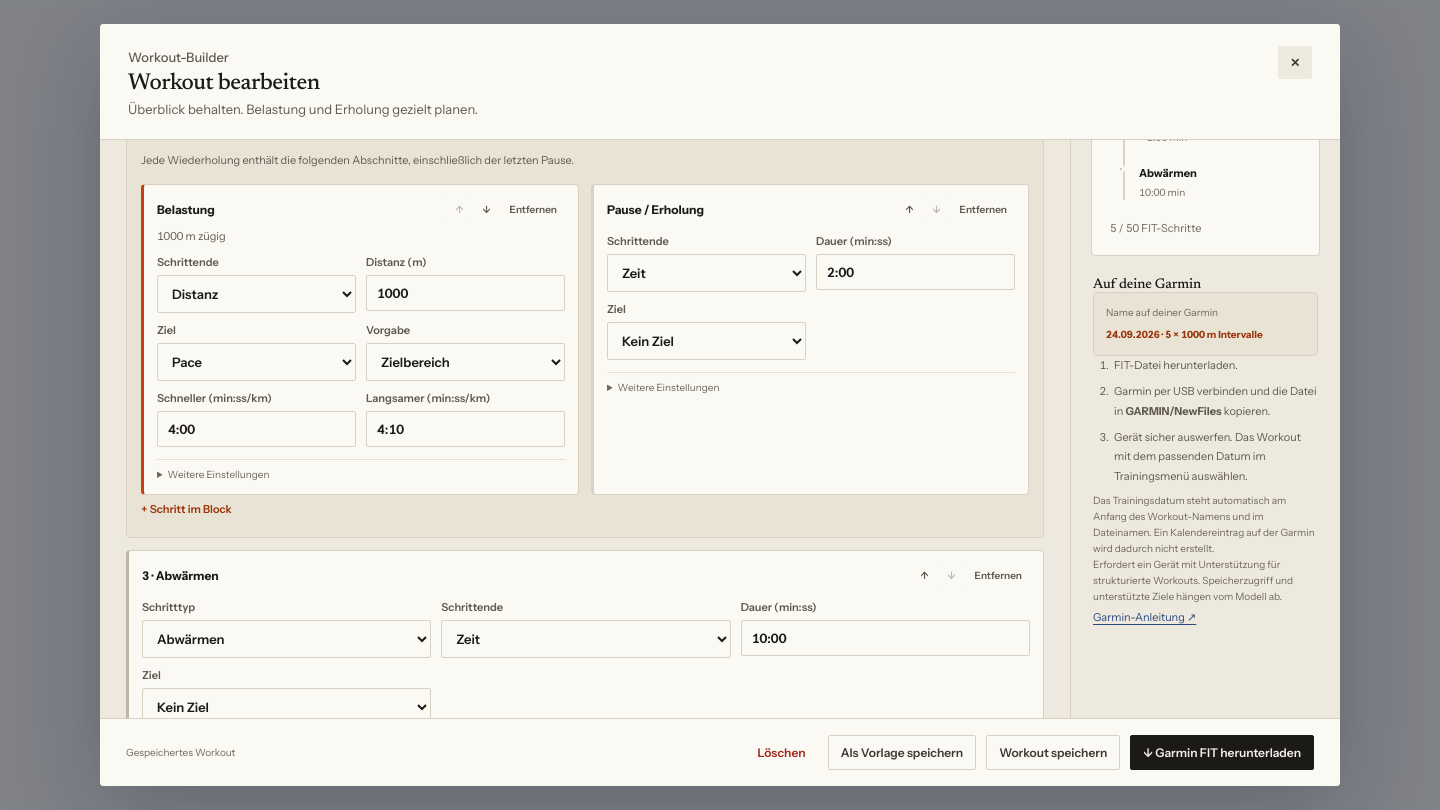
invalid time stays in the editor and an API error does not claim success
(page scrolled)
Replace the text in the field named "Schritt 2.1: Ziel von" with "4:99" at x=256, y=429, box [157,411,356,447]
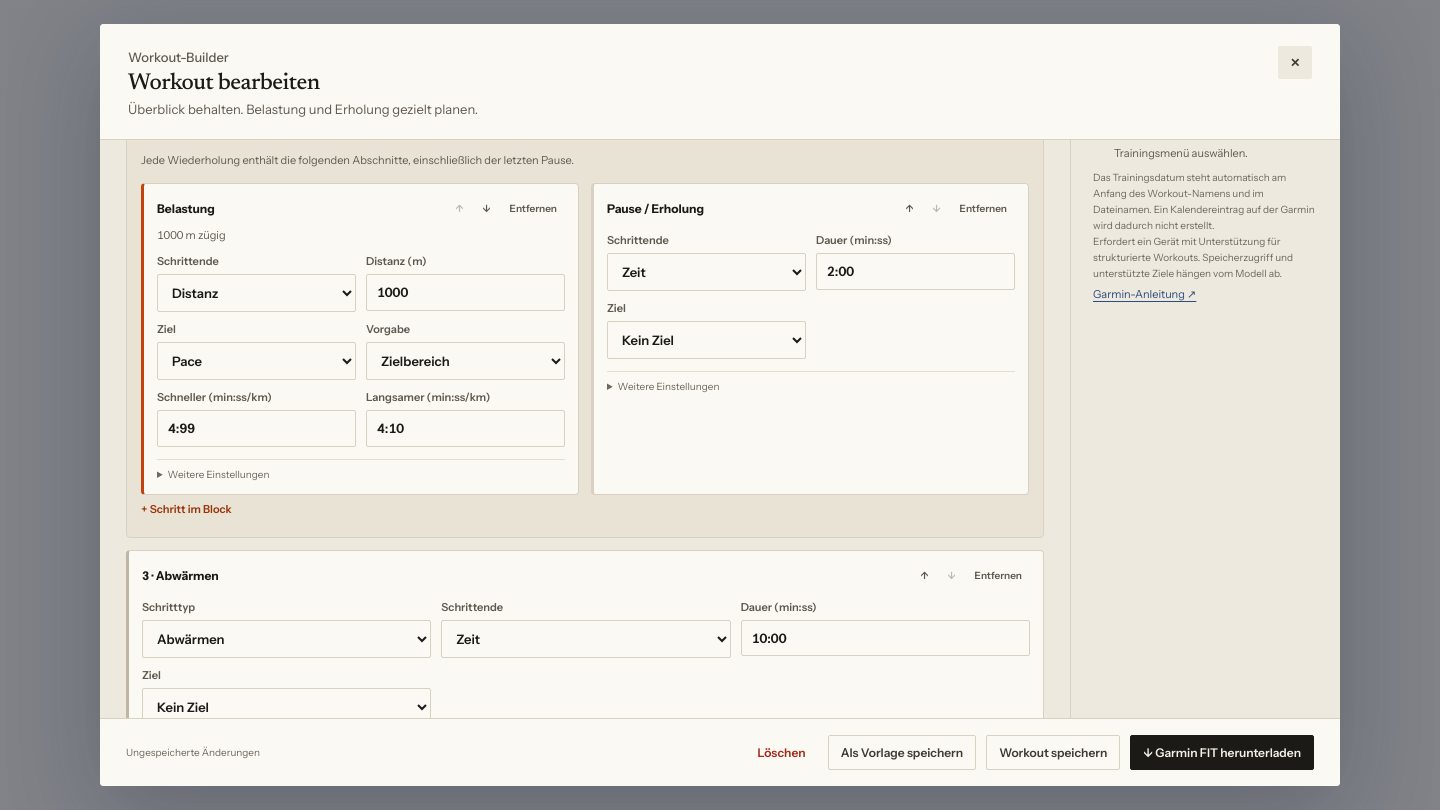
Click the button "↓ Garmin FIT herunterladen" at x=1222, y=752, box [1130,735,1314,770]
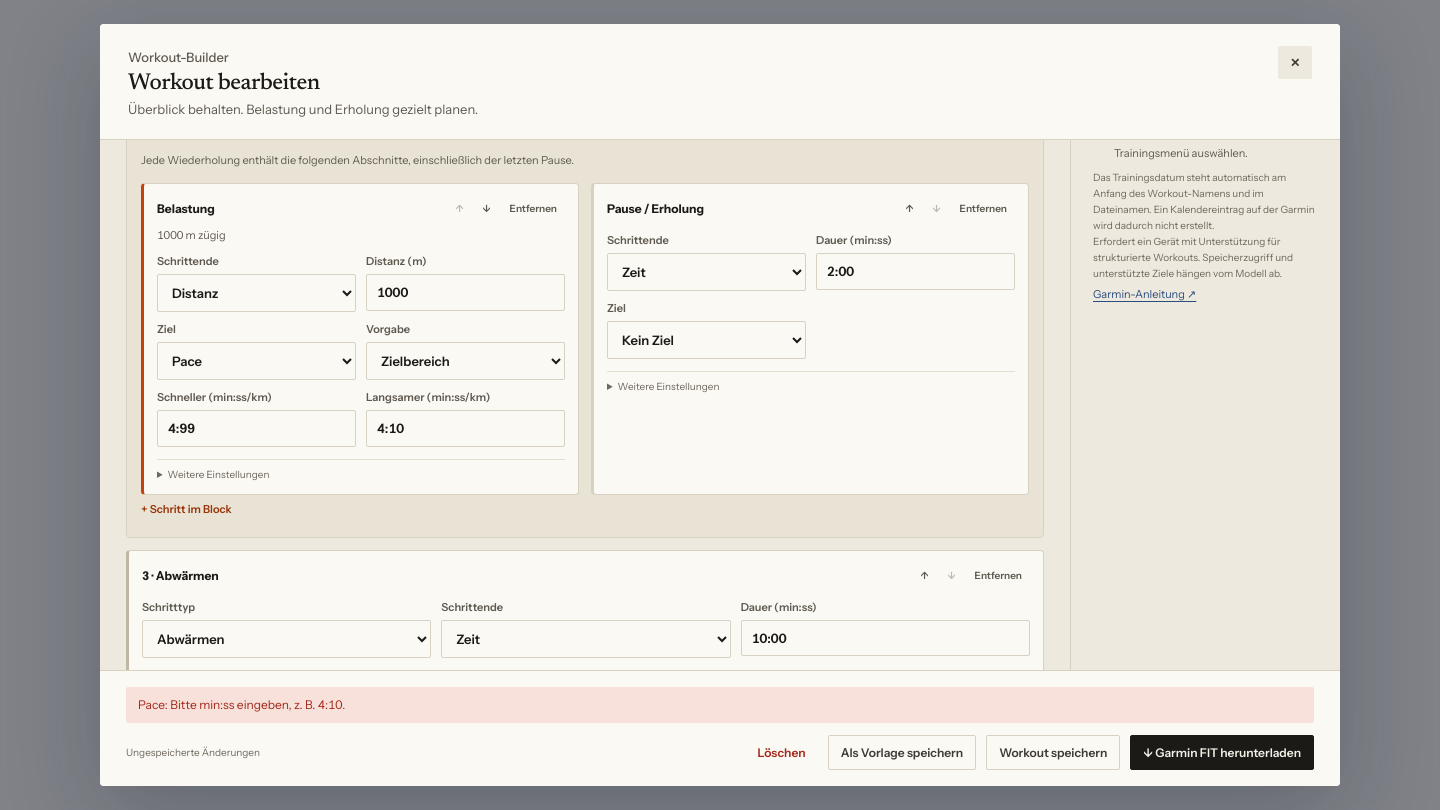
Now the message "Pace: Bitte min:ss eingeben, z. B. 4:10." is shown, box [126,687,1314,723]
Replace the text in the field named "Schritt 2.1: Ziel von" with "4:30" at x=256, y=429, box [157,410,356,447]
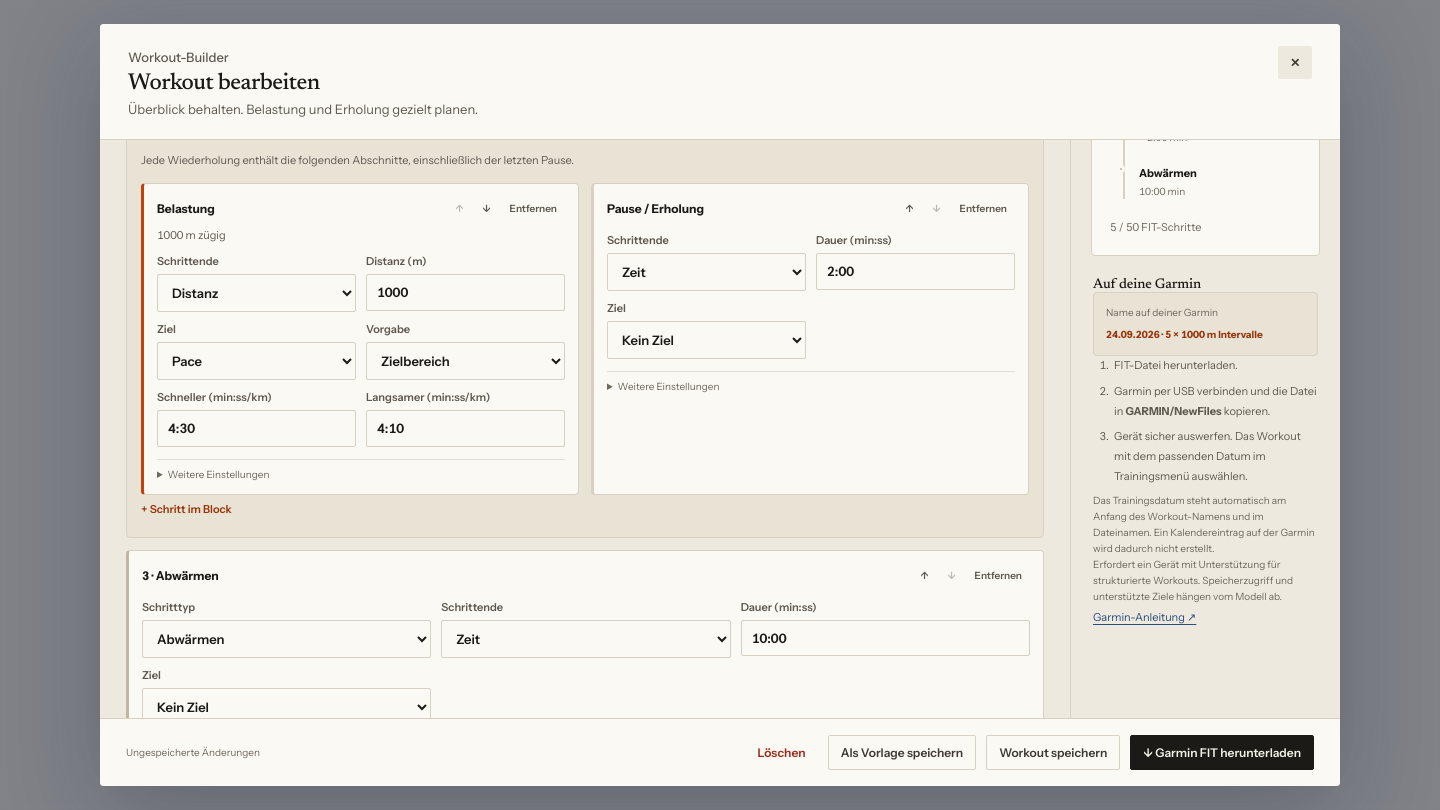
Click the button "↓ Garmin FIT herunterladen" at x=1222, y=752, box [1130,735,1314,770]
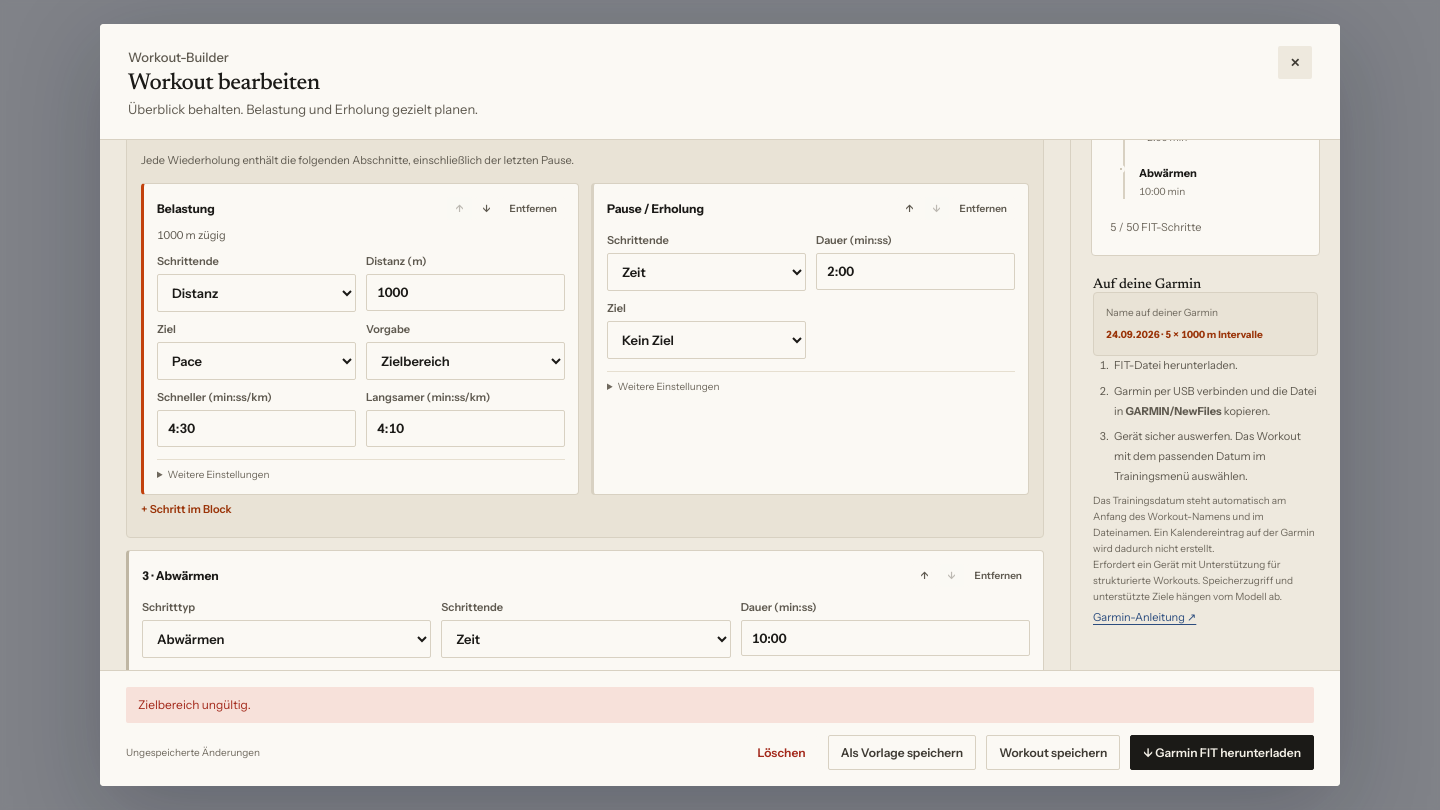
Now the message "Zielbereich ungültig." is shown, box [126,687,1314,723]
